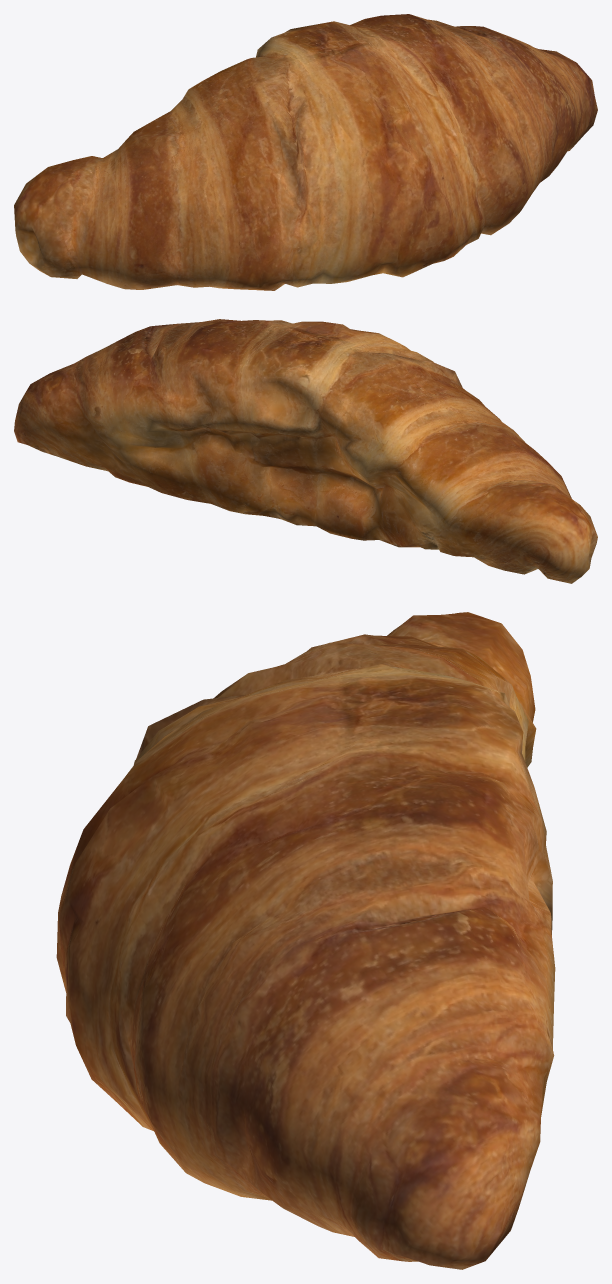
File: croissant_1k.gltf
The picture shows the model from 3 angles, top to bottom: view 1: azimuth 30°, elevation 25°; view 2: azimuth 150°, elevation 25°; view 3: azimuth 270°, elevation 25°; orthographic projection. The views are drawn at different scales.
Parts seen in each view (by area): view 1: croissant; view 2: croissant; view 3: croissant.
Boxes of the visible parts, bbox=[...] form: croissant: bbox=[14, 14, 597, 290]; croissant: bbox=[14, 319, 597, 583]; croissant: bbox=[56, 612, 555, 1269].
Bounding box in the file's own units: 0.2 × 0.062 × 0.0755.
Materials: 1 (1 with a texture image).
